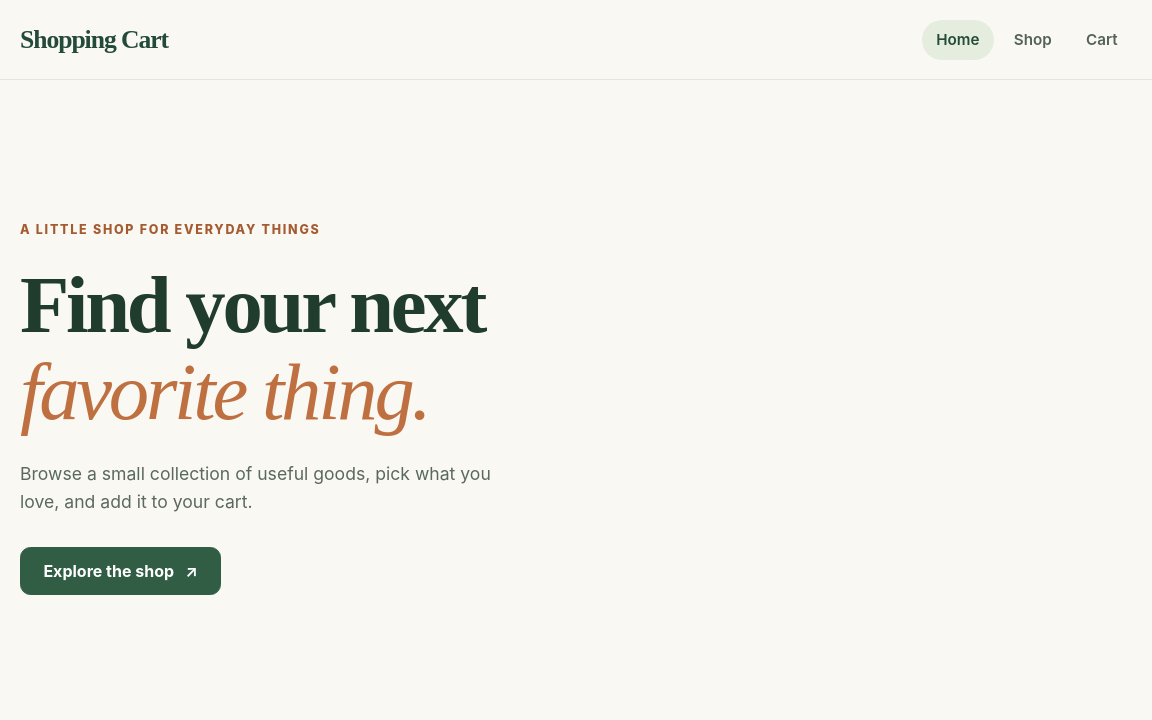
Test: shopping flow › combines repeated additions and removes an item when its quantity reaches zero
Click the link "Explore the shop ↗" at (121, 571), box [20,547,221,595]
(page scrolled)
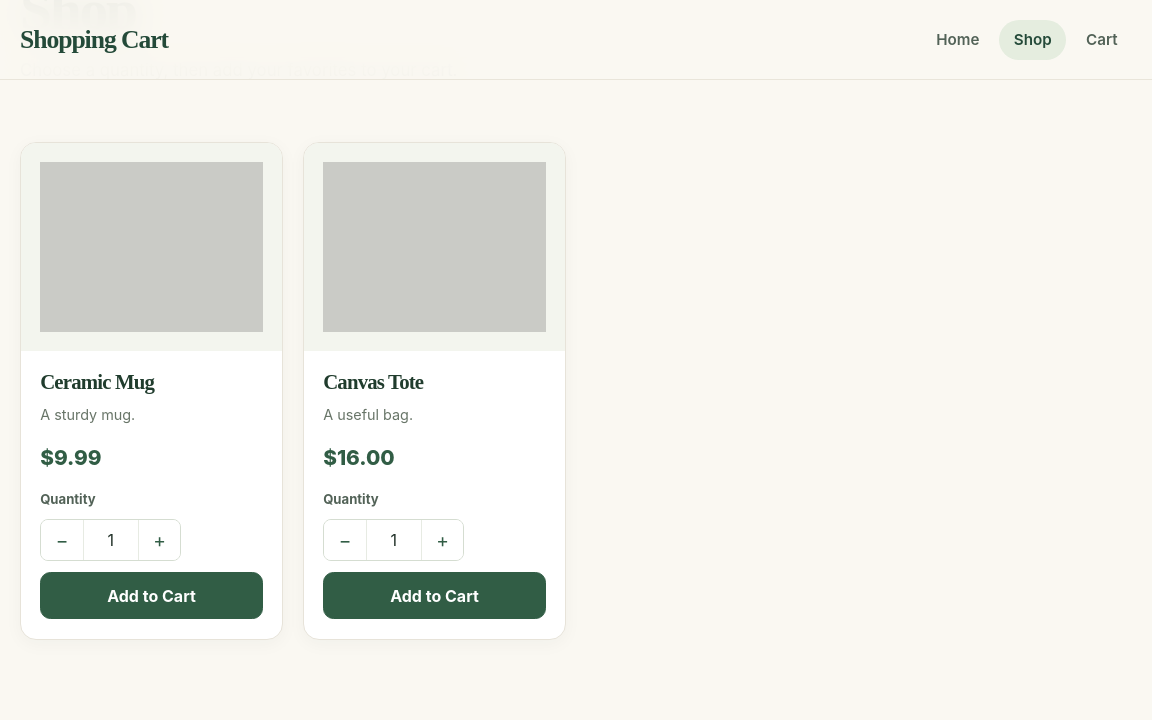
Now the heading "Ceramic Mug" is shown, box [40,370,154,393]
Click the button "Add to Cart" below "9.99" at (152, 596), box [40,572,263,619]
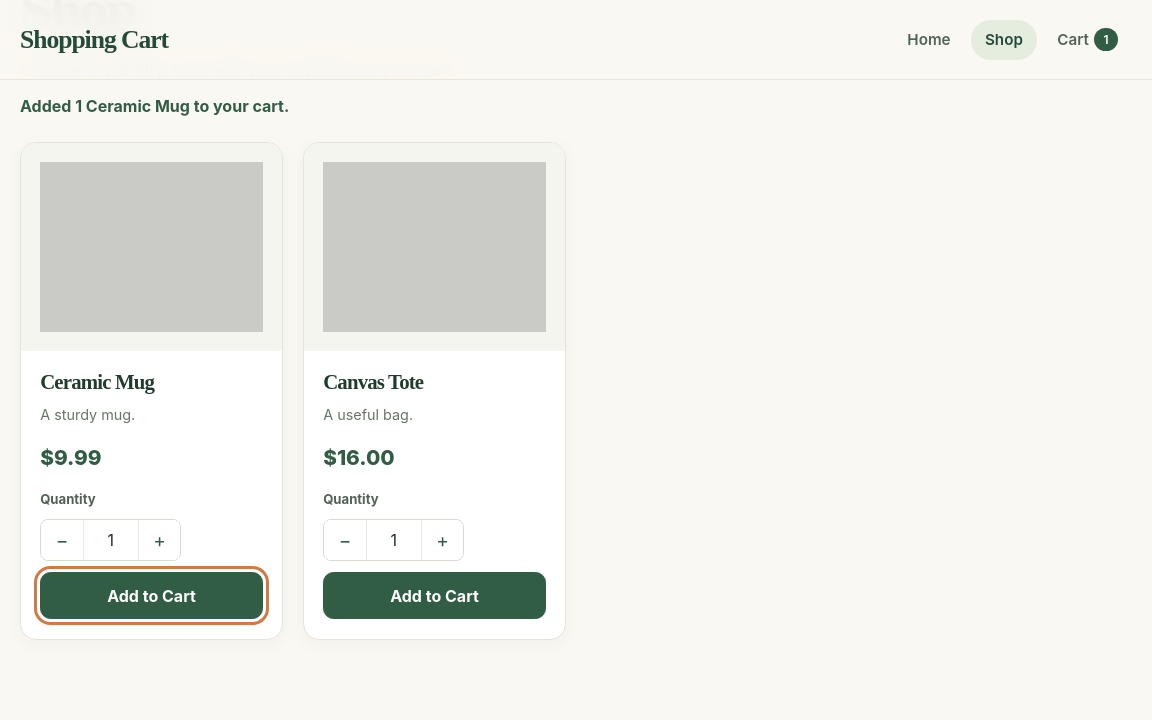
Click the button "Add to Cart" below "9.99" at (152, 596), box [40,572,263,619]
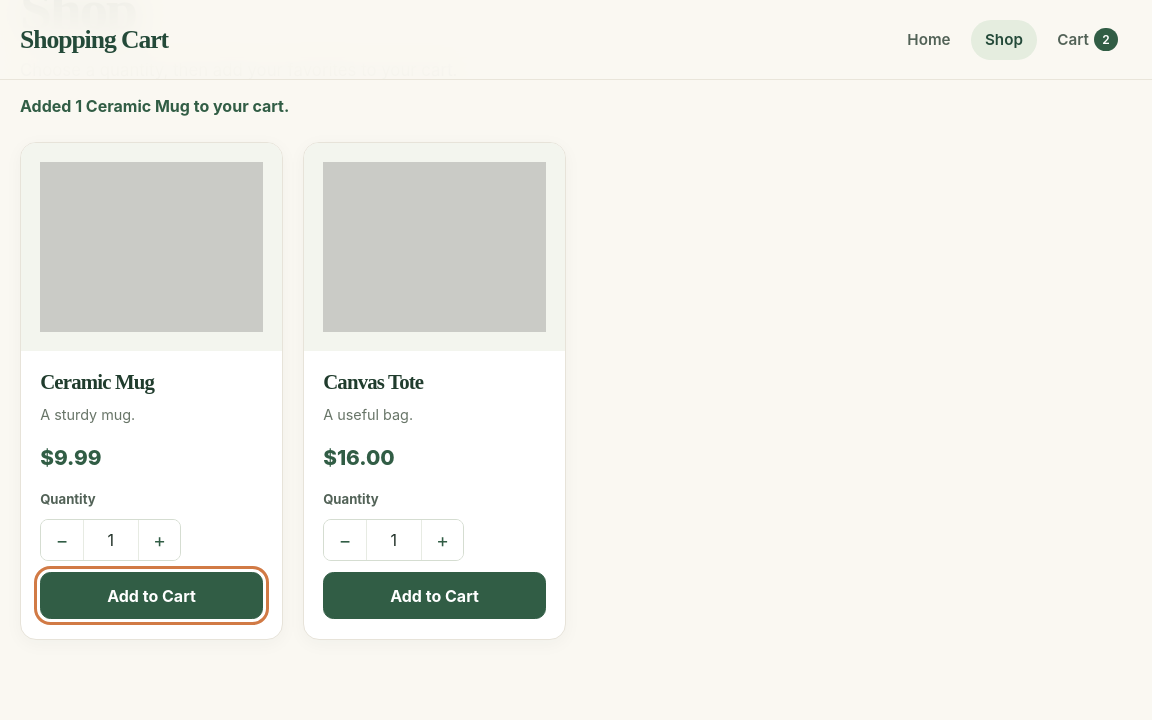
Click the link "Cart 2" at (1088, 40), box [1057,28,1118,51]
(page scrolled)
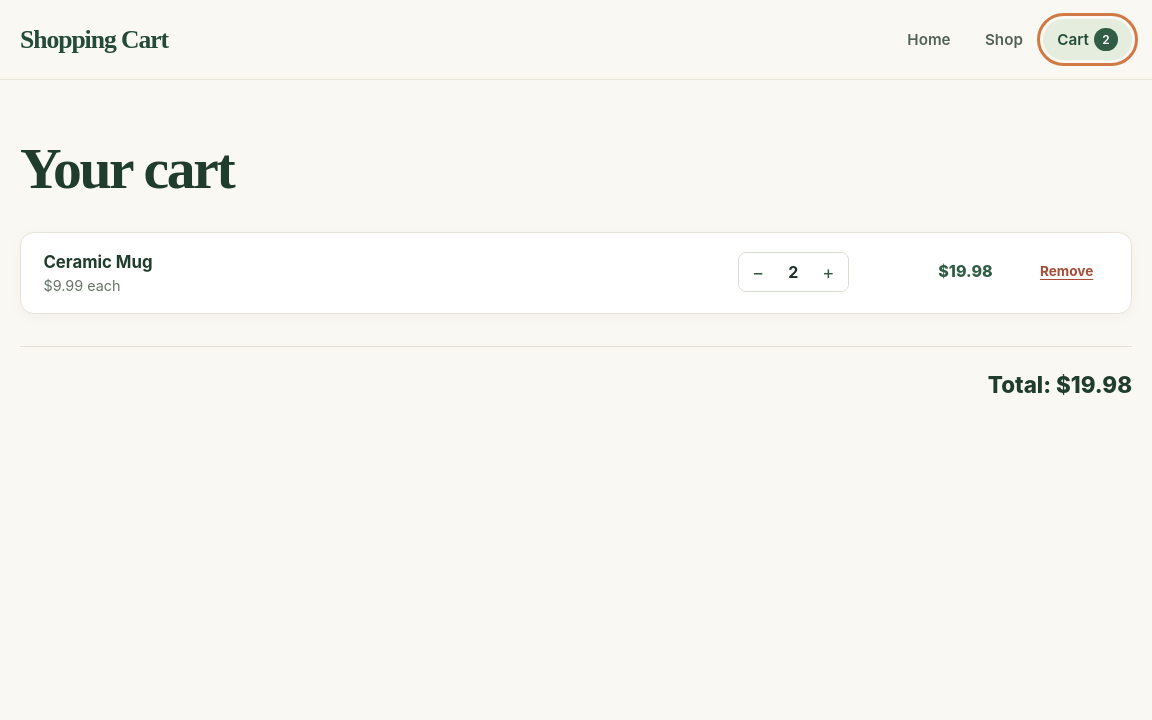
Now the text "Total: $19.98" is shown, box [20,346,1132,402]
Click the button named "Decrease Ceramic Mug quantity" at (758, 272), box [739,253,777,291]
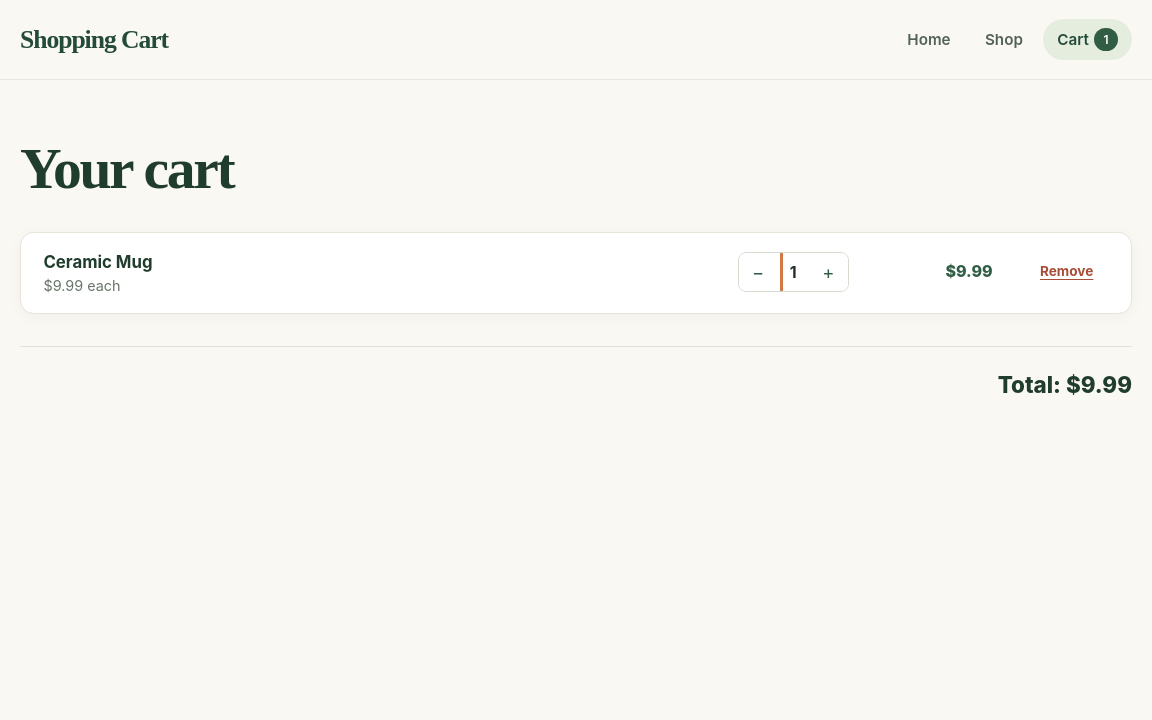
Click the button named "Decrease Ceramic Mug quantity" at (758, 272), box [739,253,777,291]
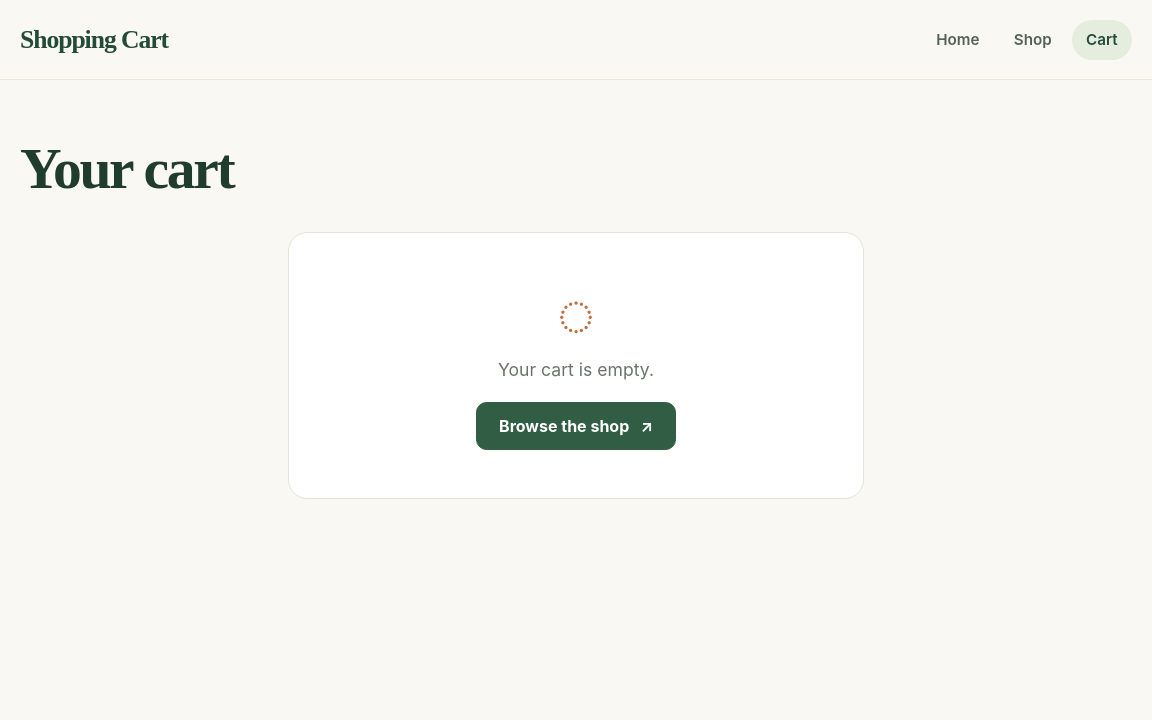
Now the text "Your cart is empty." is shown, box [498,356,654,383]
